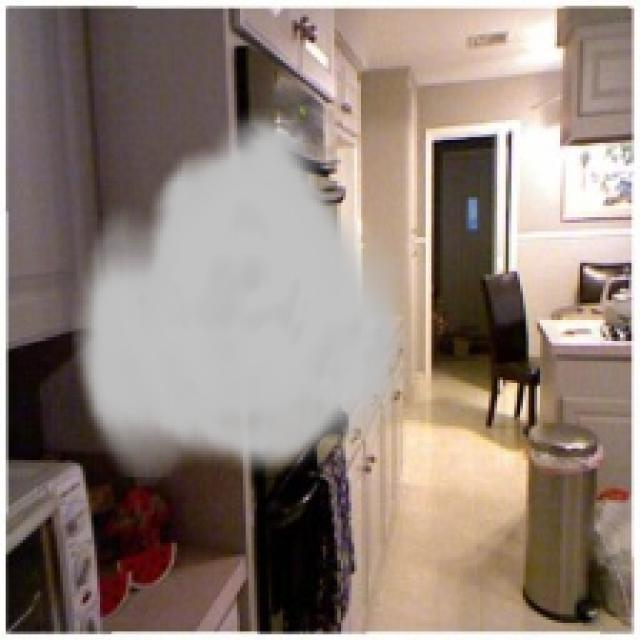Smoke: (72, 109, 417, 478)
